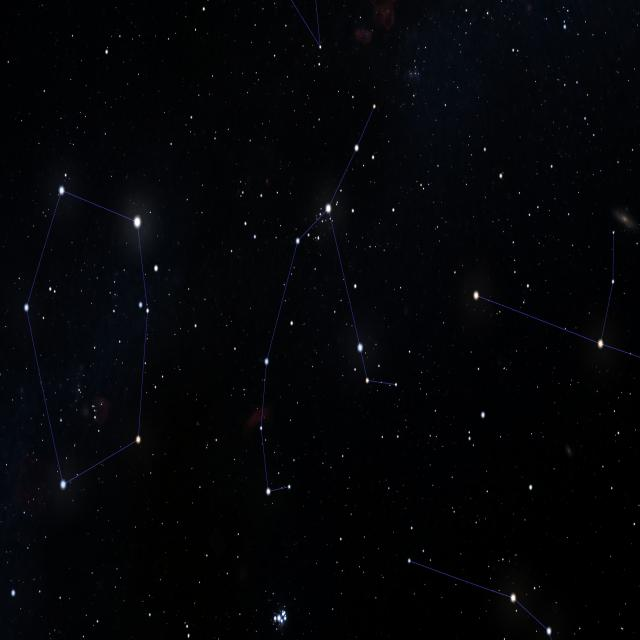Perseus: (245, 98, 405, 503)
